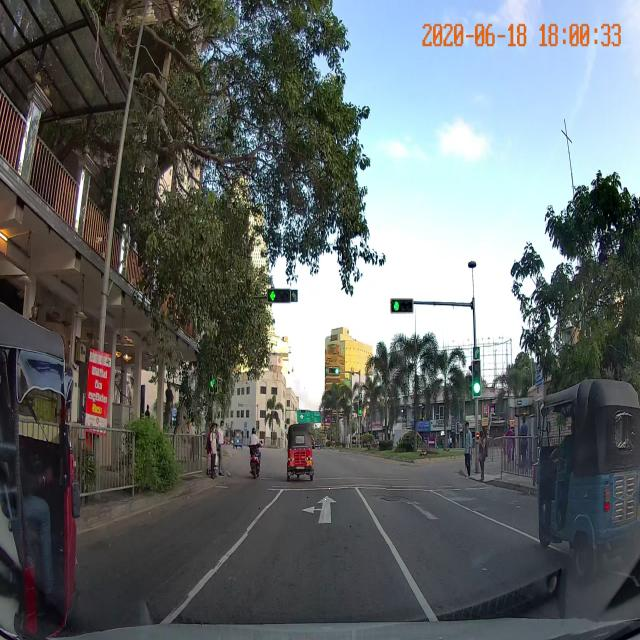forward_lft: (247, 488, 386, 534)
